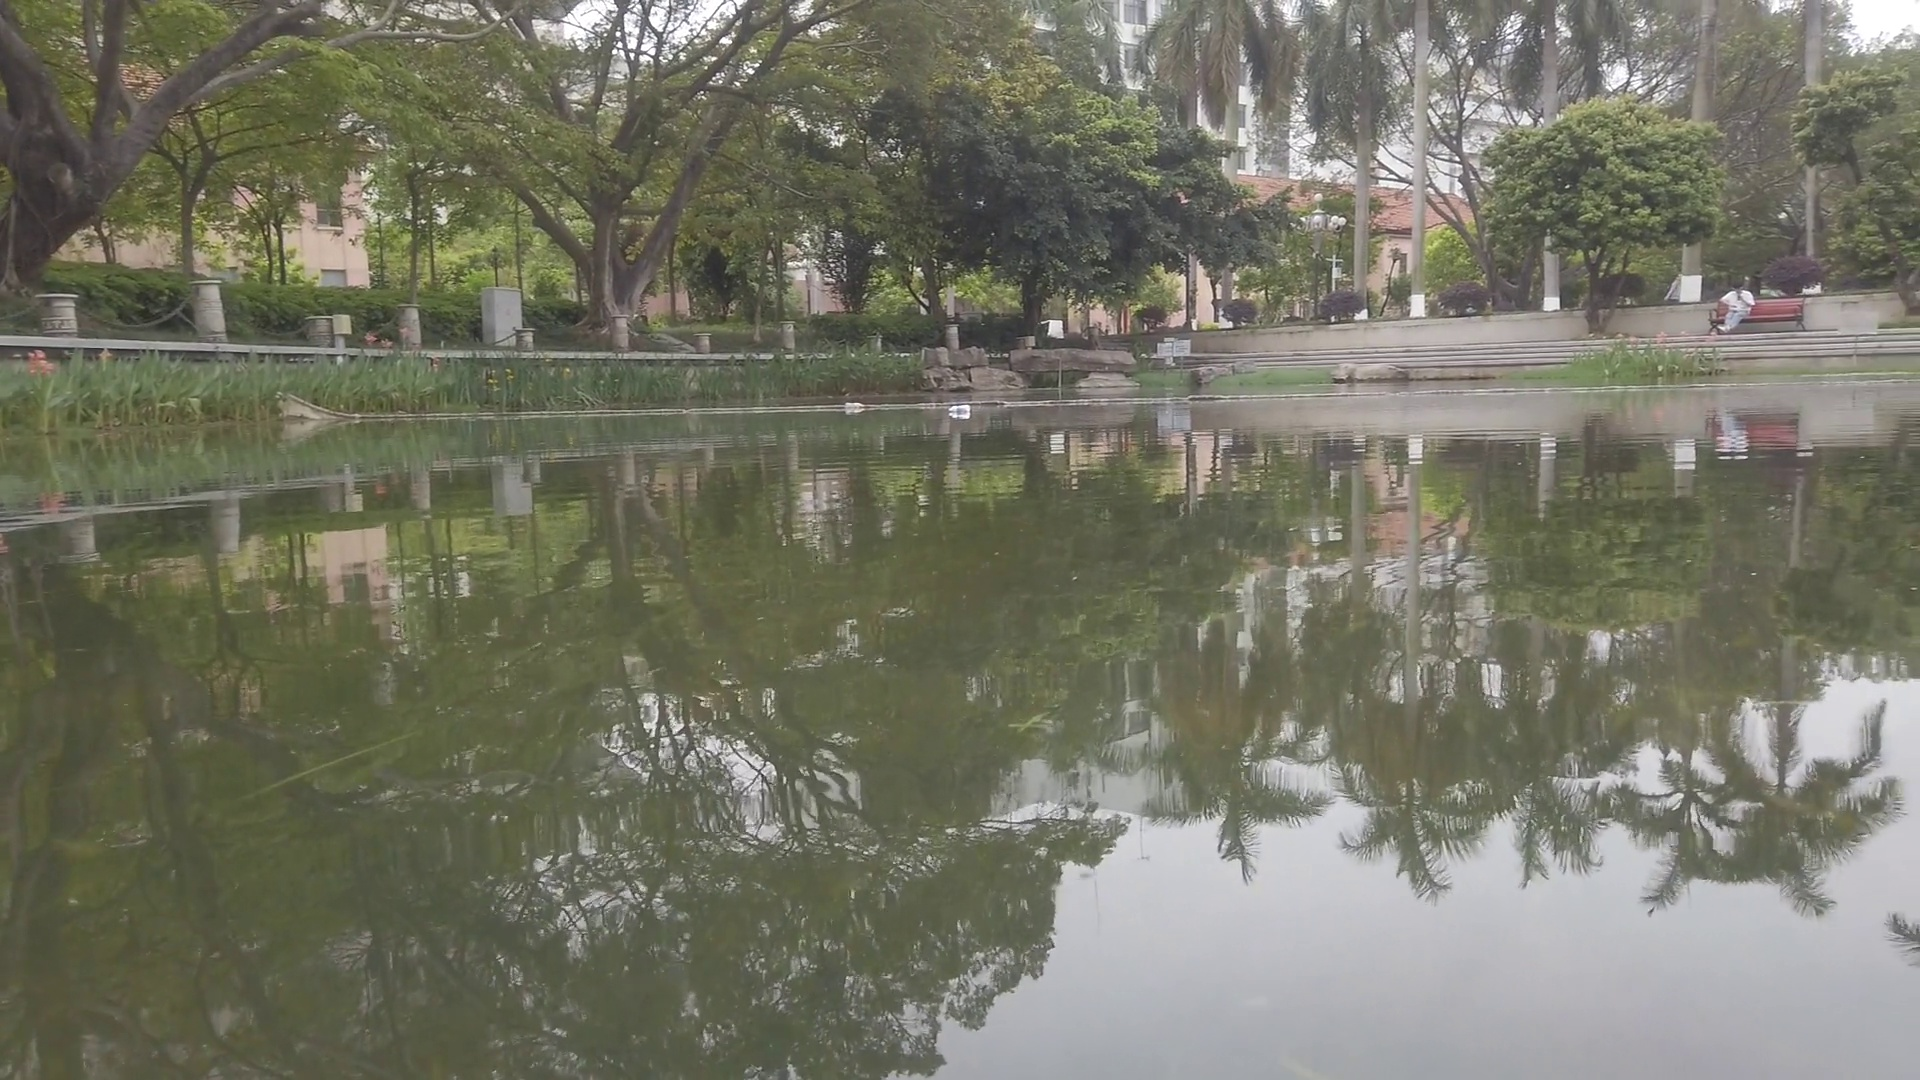bottle: (844, 401, 862, 411), (951, 405, 971, 413)
